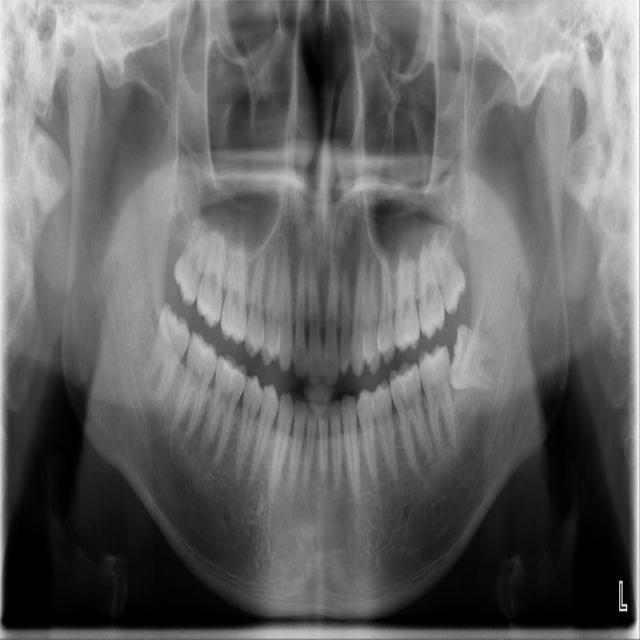3M ESPE Implant: (163, 217, 220, 309)
73: (598, 582, 602, 592)
BioHorizons Implant: (416, 242, 446, 338)
BioLife Implant: (422, 227, 475, 317)
Biomet 3i Implant: (450, 324, 499, 390)
Blue Sky Bio Implant: (416, 342, 458, 454)
Caries: (195, 228, 227, 326)
Implant: (170, 332, 223, 441)
Keystone Dental Implant: (139, 300, 199, 408)
